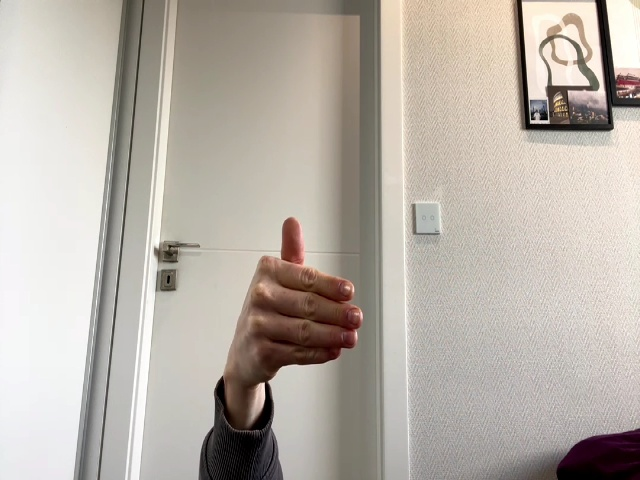M: (231, 218, 363, 389)
